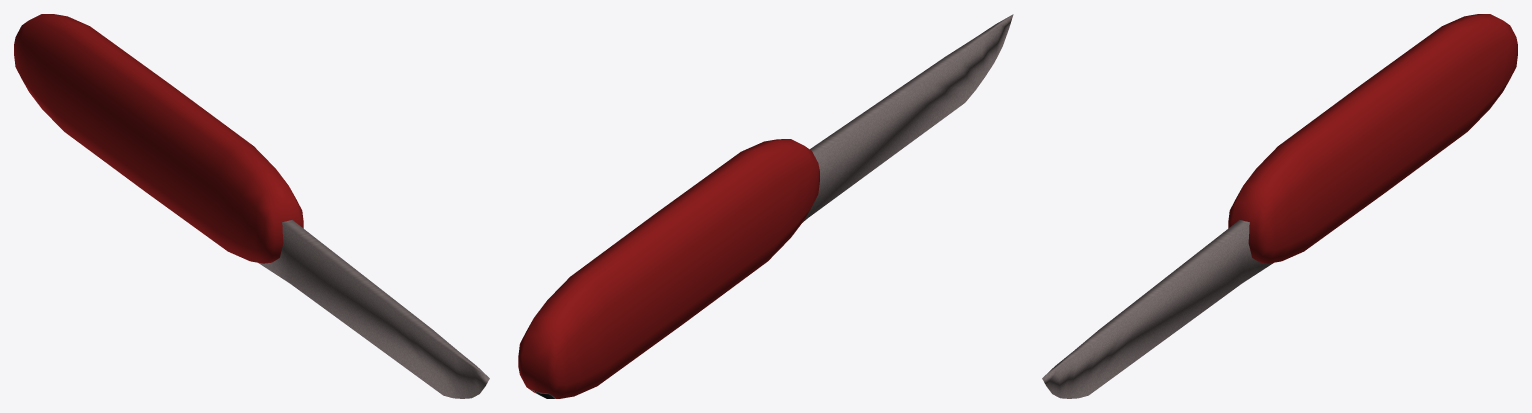
The model's file is Pocketknife_v02.obj.
3 renders of one model, left to right at view 1: azimuth 30°, elevation 25°; view 2: azimuth 150°, elevation 25°; view 3: azimuth 330°, elevation 25°, orthographic. The views are drawn at different scales.
Visible parts, largest first — view 1: pocketknife_v01; view 2: pocketknife_v01; view 3: pocketknife_v01.
Boxes of the visible parts, x1=… form: pocketknife_v01: x1=14, y1=14, x2=489, y2=398; pocketknife_v01: x1=518, y1=14, x2=1013, y2=398; pocketknife_v01: x1=1042, y1=14, x2=1517, y2=398.
Size of the model in its own units: 0.2361 by 0.5234 by 4.16.
1 material, 1 textured.
